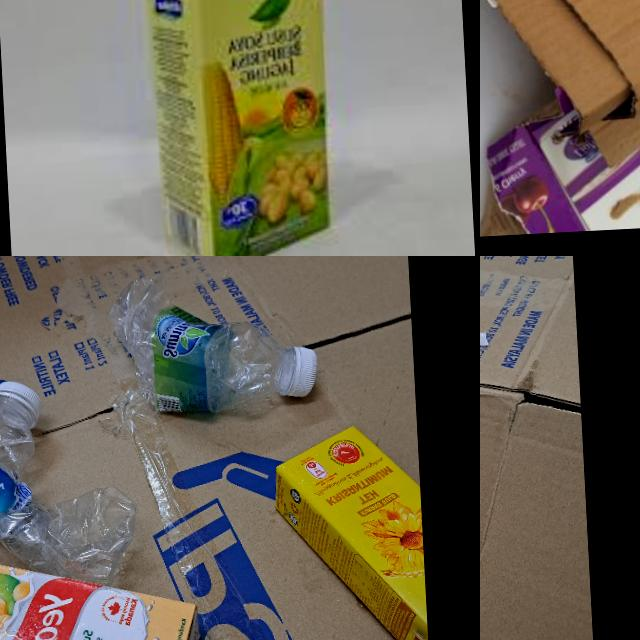caixinha: (147, 0, 335, 256), (272, 423, 430, 640), (0, 544, 206, 640)
garrafa plástica: (104, 270, 295, 416), (0, 395, 140, 594)
papelão: (0, 256, 437, 640), (480, 256, 603, 640), (480, 0, 640, 243)
tampa plástica: (285, 346, 319, 398), (0, 378, 43, 418)
